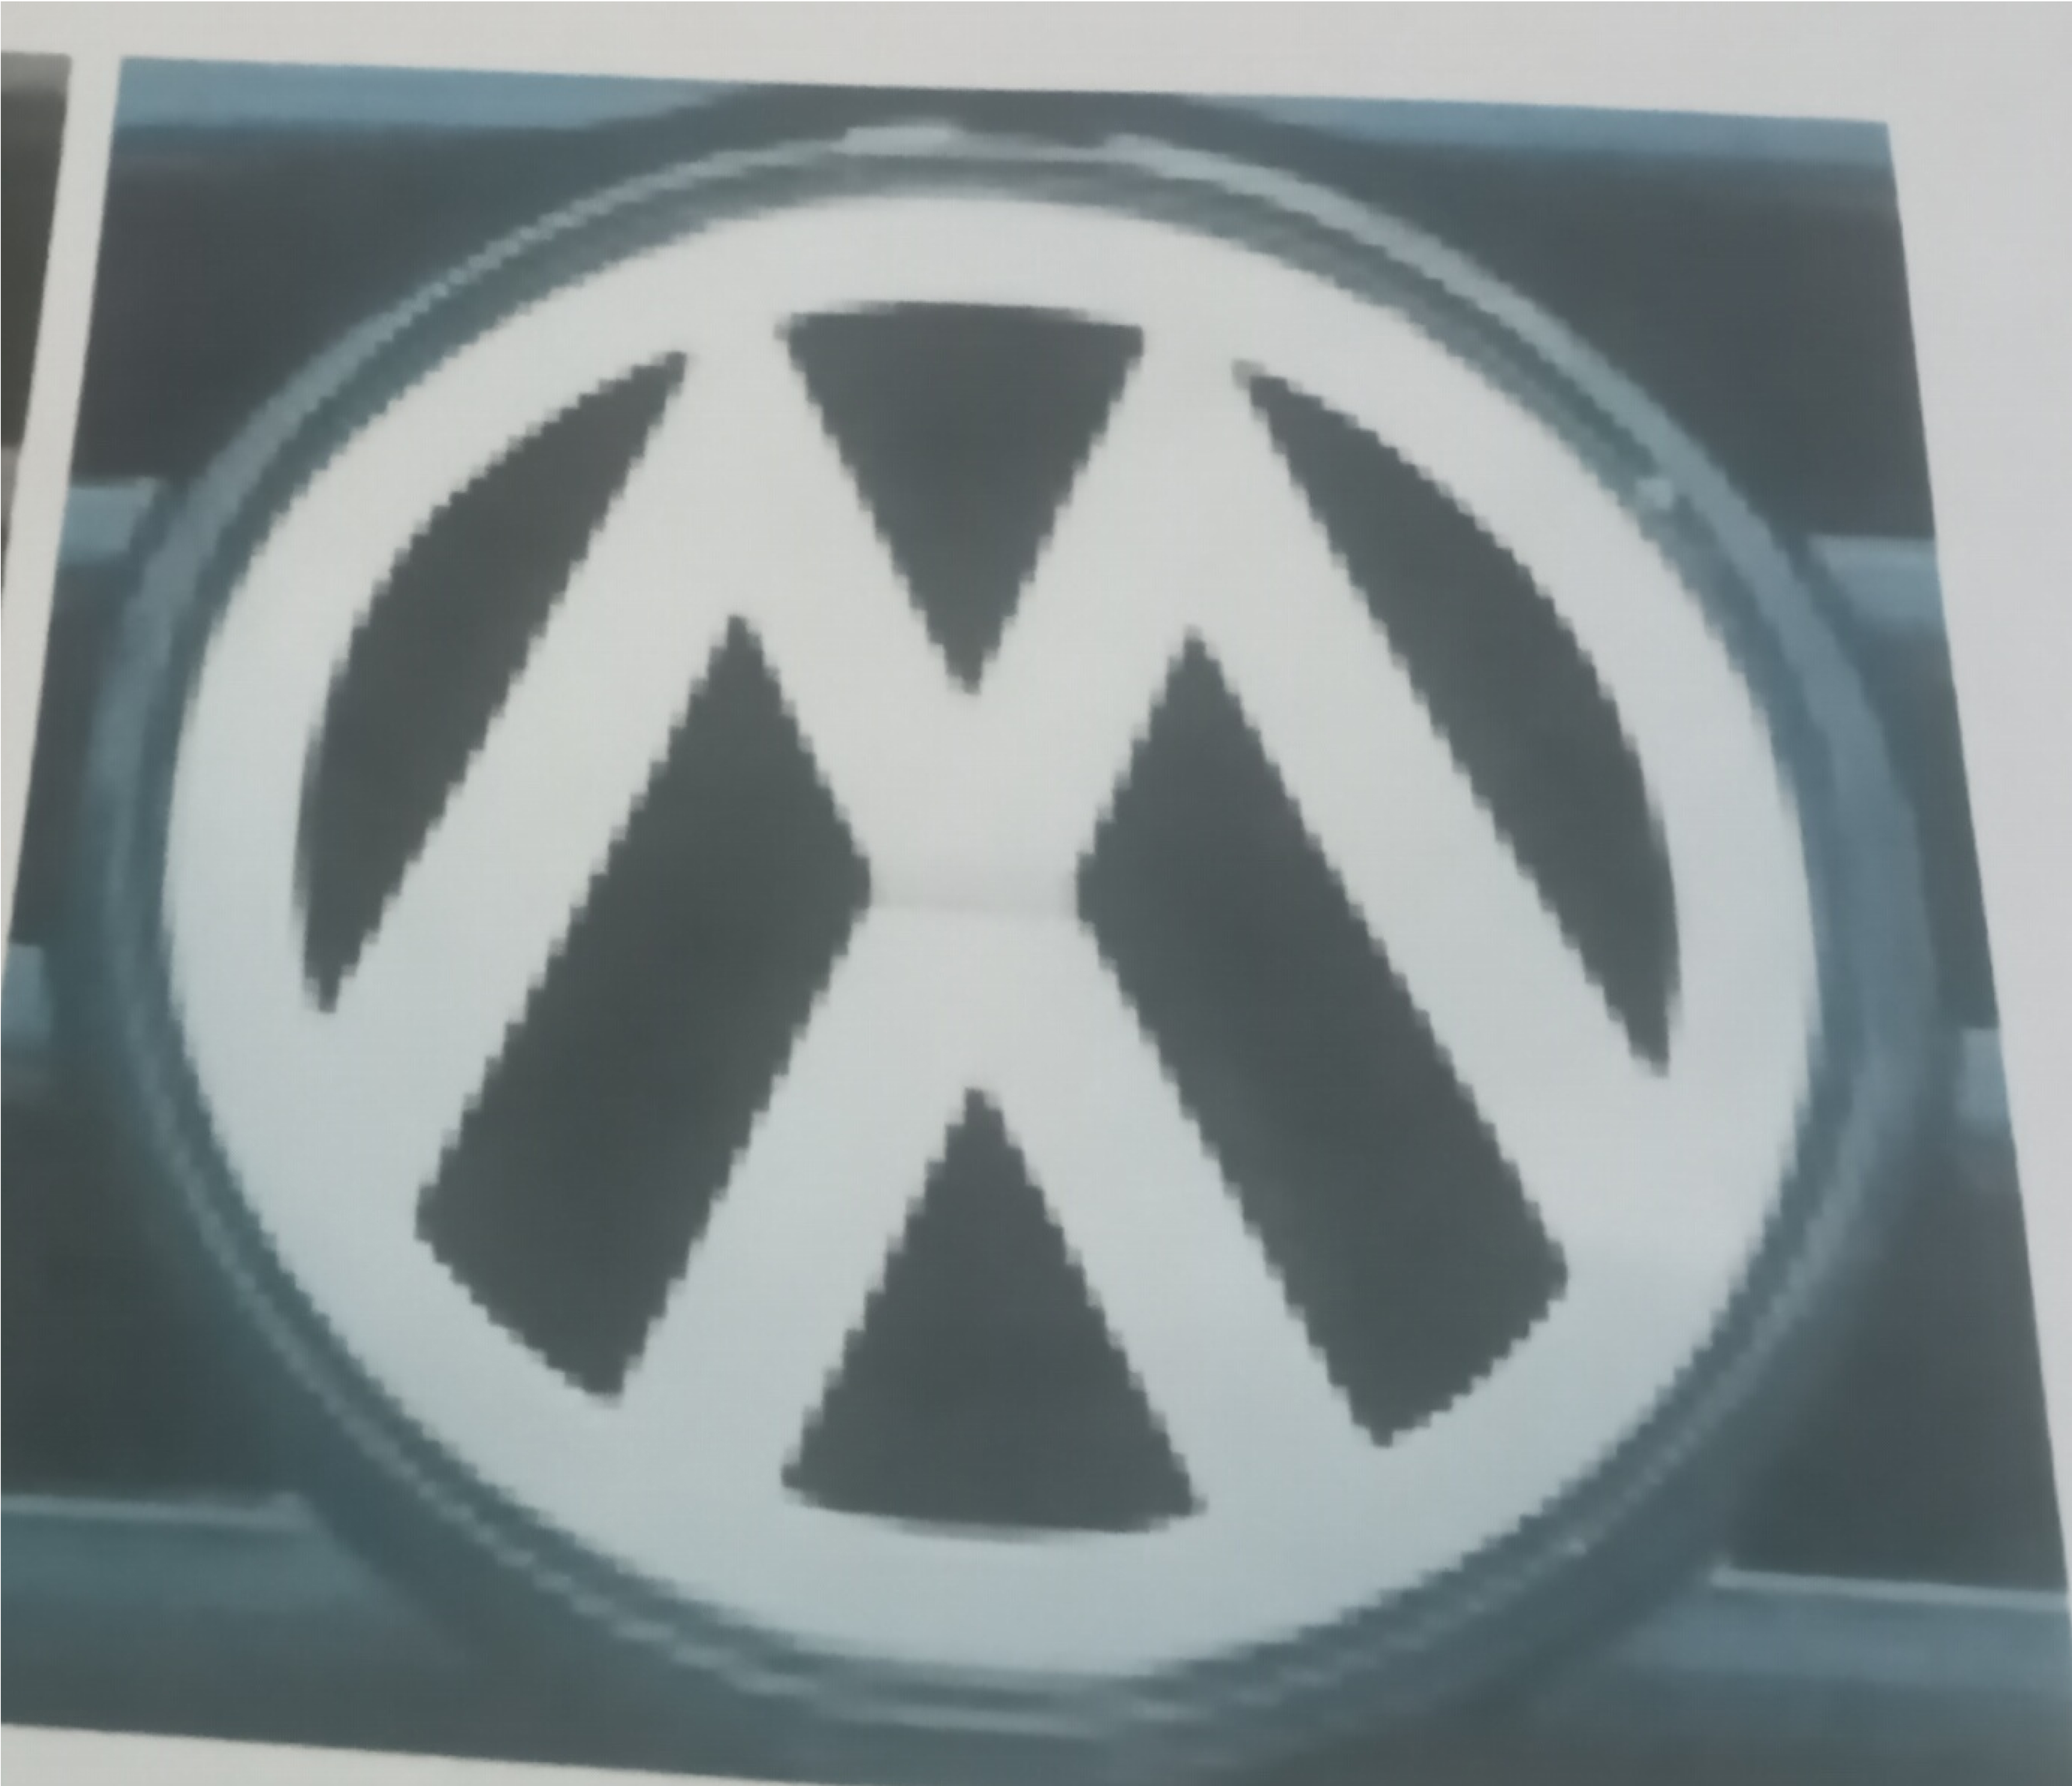Volkswagen: (116, 67, 1966, 1779)
